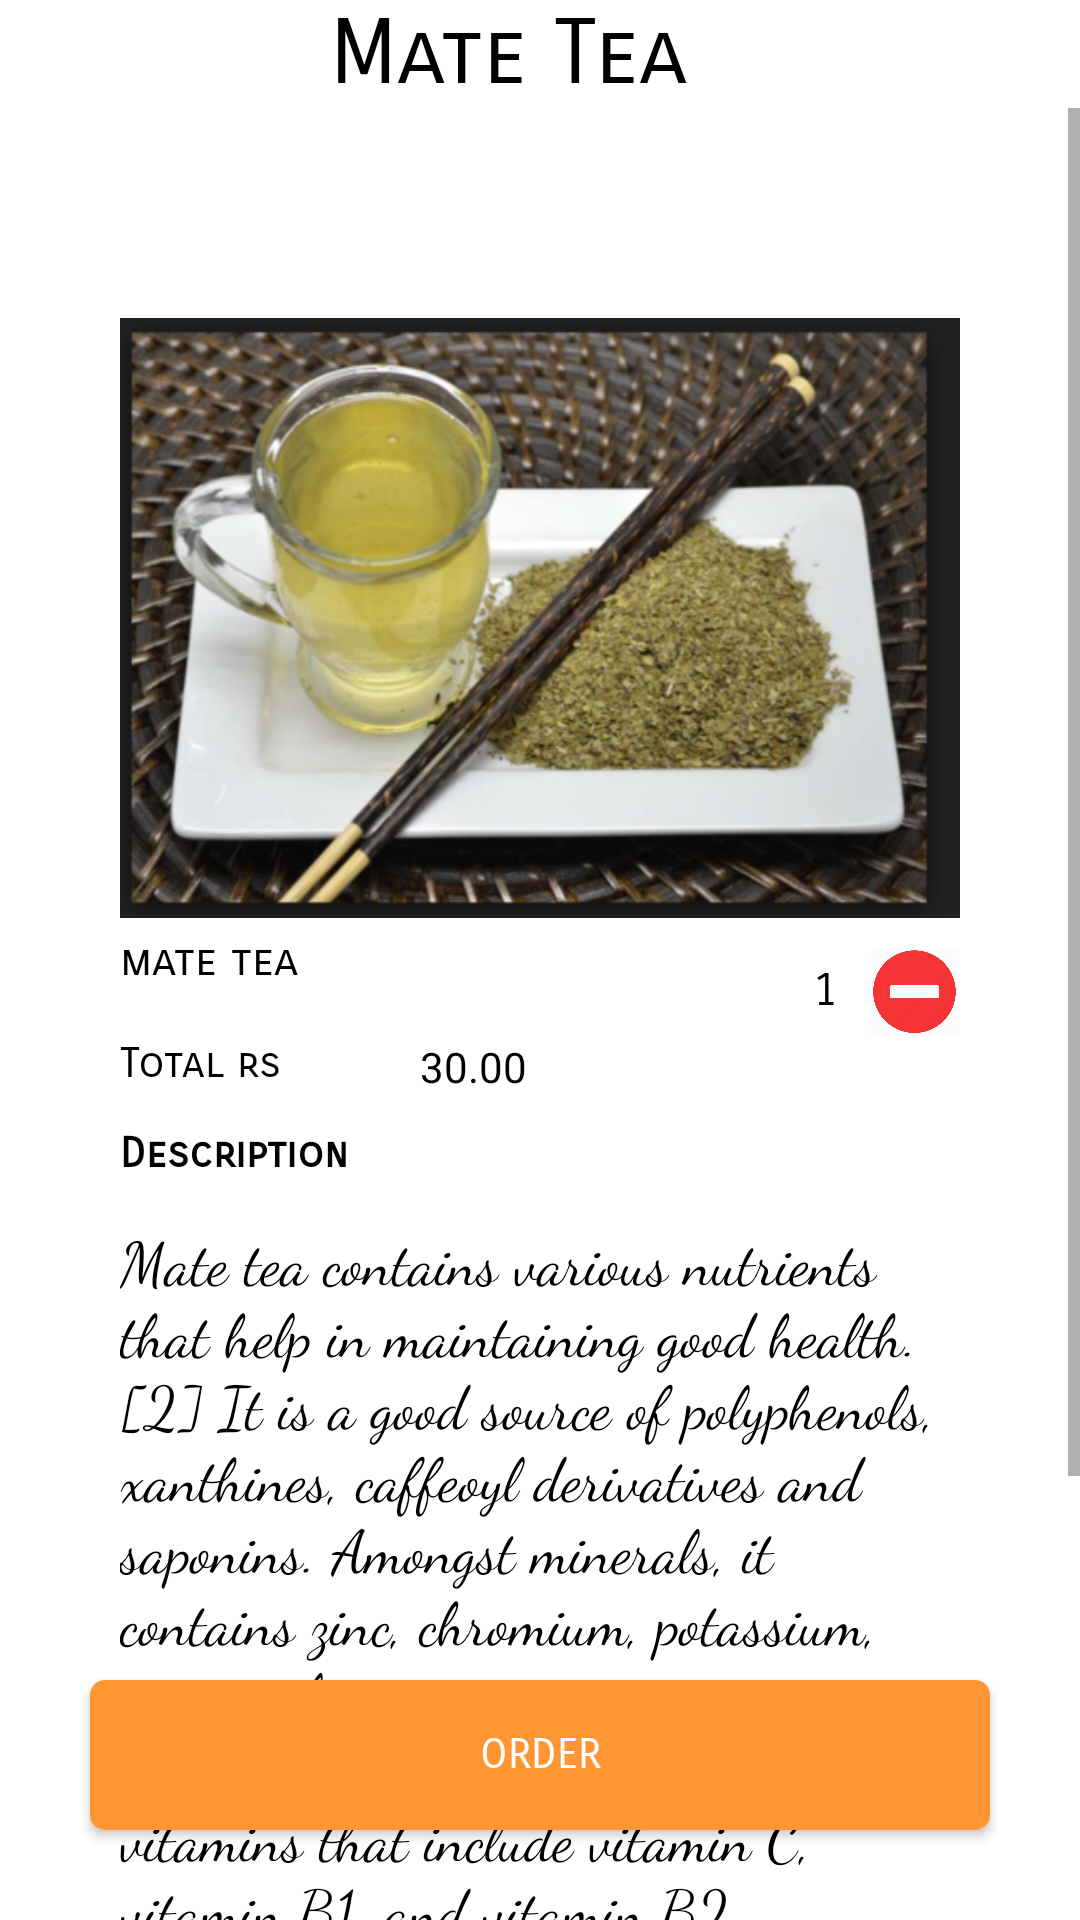

Icons on this 1080x1920 Android screen, each with its box as detection(x1, y1, x2, y2):
minus: detection(873, 950, 956, 1033)
